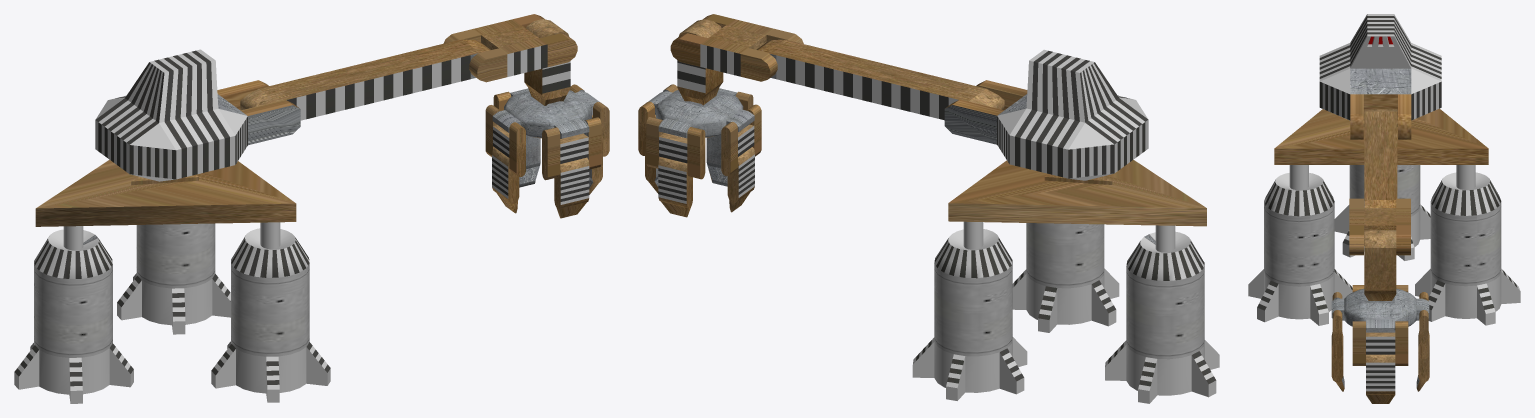
File: clawArm.fbx
3 renders of one model, left to right at view 1: azimuth 30°, elevation 25°; view 2: azimuth 150°, elevation 25°; view 3: azimuth 270°, elevation 25°, orthographic. The views are drawn at different scales.
Visible parts, largest first — view 1: pCube3, pCylinder16, pCylinder17, pCube18, pCylinder3, pCube19, pCube7, pCube9, pCube17, pCube8, pCube16, pCube13 (+3 smaller); view 2: pCube3, pCylinder3, pCylinder17, pCube18, pCylinder16, pCube19, pCube7, pCube9, pCube15, pCube8, pCube14, pCube13 (+3 smaller); view 3: pCylinder3, pCylinder16, pCube3, pCube18, pCube19, pCylinder17, pCube9, pCube7, pCube8, pCube10, pCube11, pCube17 (+3 smaller).
Part boxes in pixels (bbox=[...]): pCube3: bbox=[95, 49, 300, 181]; pCylinder16: bbox=[211, 222, 330, 402]; pCylinder17: bbox=[14, 226, 133, 403]; pCube18: bbox=[35, 159, 296, 226]; pCylinder3: bbox=[117, 223, 230, 334]; pCube19: bbox=[240, 39, 490, 120]; pCube7: bbox=[443, 14, 577, 82]; pCube9: bbox=[492, 88, 599, 138]; pCube17: bbox=[542, 117, 601, 180]; pCube8: bbox=[524, 19, 570, 105]; pCube16: bbox=[554, 157, 589, 218]; pCube13: bbox=[485, 105, 525, 176]; pCube3: bbox=[944, 49, 1148, 180]; pCylinder3: bbox=[912, 221, 1027, 400]; pCylinder17: bbox=[1105, 225, 1219, 403]; pCube18: bbox=[948, 160, 1206, 226]; pCylinder16: bbox=[1012, 223, 1119, 332]; pCube19: bbox=[756, 39, 1004, 120]; pCube7: bbox=[670, 14, 803, 81]; pCube9: bbox=[648, 88, 754, 138]; pCube15: bbox=[646, 117, 705, 179]; pCube8: bbox=[677, 19, 723, 105]; pCube14: bbox=[658, 157, 692, 217]; pCube13: bbox=[721, 104, 761, 176]; pCylinder3: bbox=[1415, 165, 1520, 325]; pCylinder16: bbox=[1248, 165, 1352, 325]; pCube3: bbox=[1319, 14, 1441, 139]; pCube18: bbox=[1274, 108, 1488, 164]; pCube19: bbox=[1364, 109, 1397, 207]; pCylinder17: bbox=[1334, 165, 1430, 260]; pCube9: bbox=[1331, 288, 1429, 332]; pCube7: bbox=[1349, 198, 1410, 255]; pCube8: bbox=[1364, 230, 1396, 300]; pCube10: bbox=[1352, 321, 1408, 365]; pCube11: bbox=[1366, 354, 1395, 403]; pCube17: bbox=[1332, 292, 1342, 359].
Size of the model in its own units: 4.83 by 2.36 by 2.23.
